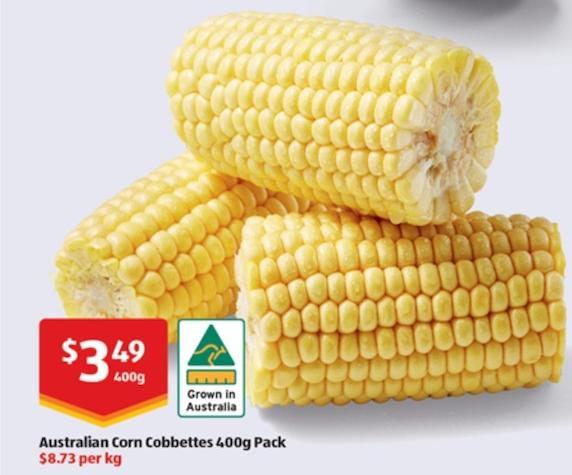description_block: (39, 431, 291, 454)
price_main: (38, 308, 168, 422)
product_image_block: (109, 20, 565, 409)
unit_price_block: (32, 447, 129, 471)
